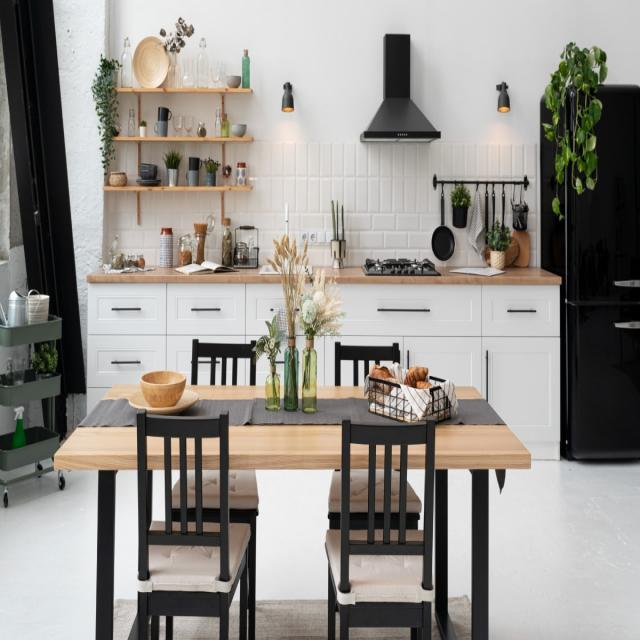table: (44, 350, 536, 500)
